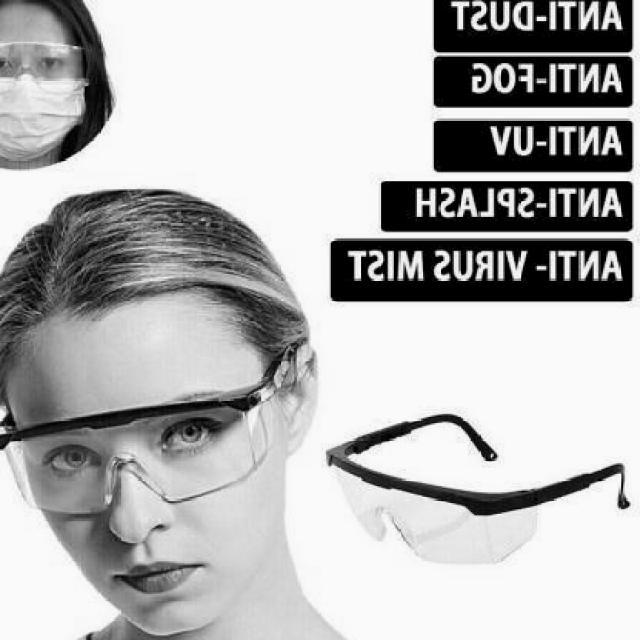face_mask: (0, 46, 89, 159)
face_nomask: (50, 401, 236, 601)
glasses: (0, 383, 275, 523), (0, 38, 91, 100)
head_nohelmet: (11, 180, 289, 377)
